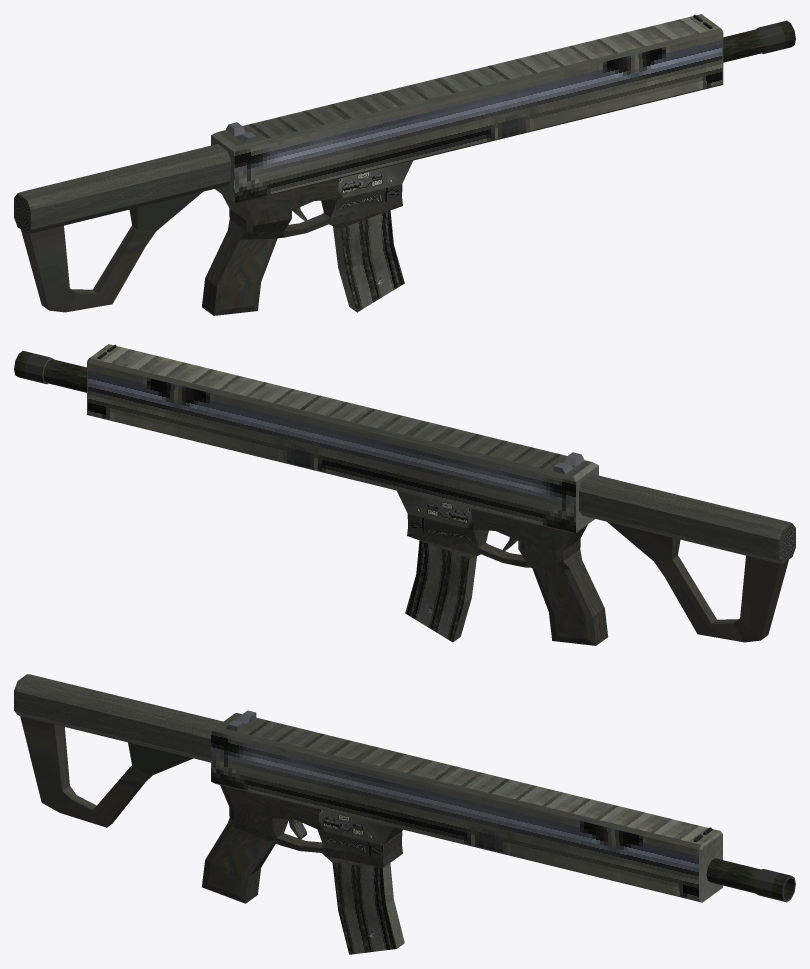
File: auto_gun.glb
3 renders of one model, top to bottom at view 1: azimuth 30°, elevation 25°; view 2: azimuth 150°, elevation 25°; view 3: azimuth 330°, elevation 25°, orthographic.
Parts seen in each view (by area): view 1: Main, Handle, Stock, Barrel; view 2: Main, Handle, Stock, Barrel; view 3: Main, Handle, Stock, Barrel.
Boxes of the visible parts, x1,y1,x2,y2 form: Main: [211, 14, 723, 203]; Handle: [202, 160, 412, 315]; Stock: [14, 144, 230, 312]; Barrel: [723, 20, 795, 62]; Main: [87, 344, 598, 533]; Handle: [397, 490, 608, 645]; Stock: [579, 474, 795, 642]; Barrel: [14, 351, 86, 392]; Main: [211, 710, 722, 902]; Handle: [202, 785, 404, 954]; Stock: [14, 674, 223, 827]; Barrel: [706, 858, 795, 902].
Size of the model in its own units: 6.82 by 1.75 by 0.3553.
Materials: 4 (4 with a texture image).
